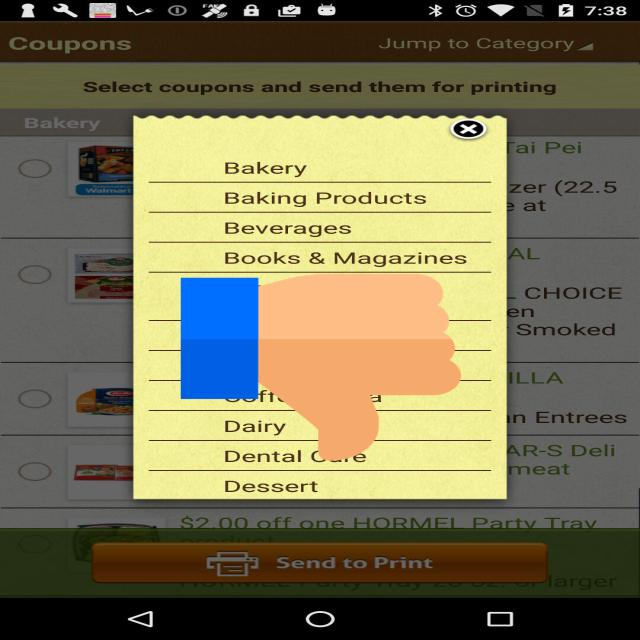obstruction: (181, 270, 461, 466)
